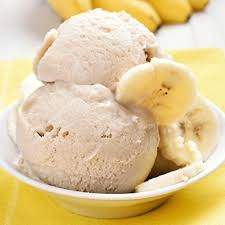ice-cream: (18, 85, 157, 193), (35, 7, 171, 87)
